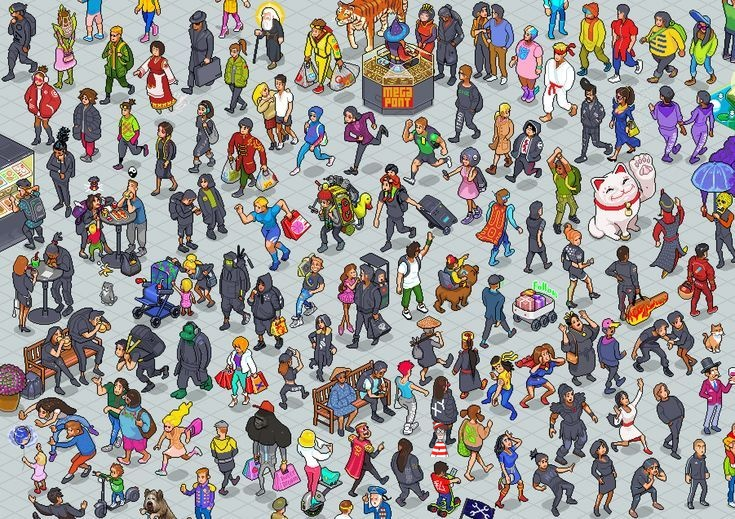waldo: (430, 421, 449, 457)
